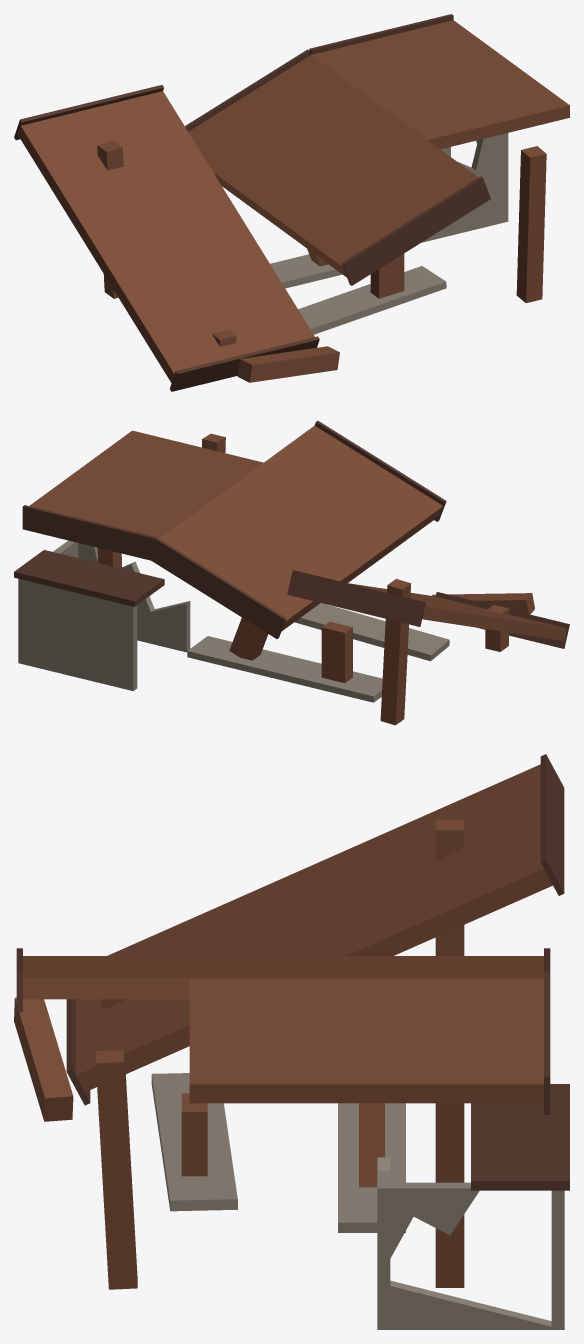
3 renders of one model, top to bottom at view 1: azimuth 30°, elevation 25°; view 2: azimuth 150°, elevation 25°; view 3: azimuth 270°, elevation 25°, orthographic. The views are drawn at different scales.
Parts seen in each view (by area): view 1: site_gas_station_ruin; view 2: site_gas_station_ruin; view 3: site_gas_station_ruin.
Boxes of the visible parts, bbox=[...] form: site_gas_station_ruin: bbox=[14, 14, 569, 391]; site_gas_station_ruin: bbox=[14, 420, 569, 725]; site_gas_station_ruin: bbox=[14, 754, 569, 1329].
Size of the model in its own units: 14.7 by 5.39 by 10.67.
